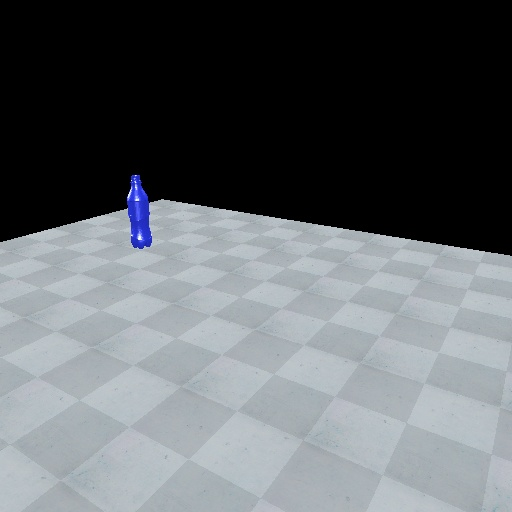bottle: (124, 171, 156, 252)
